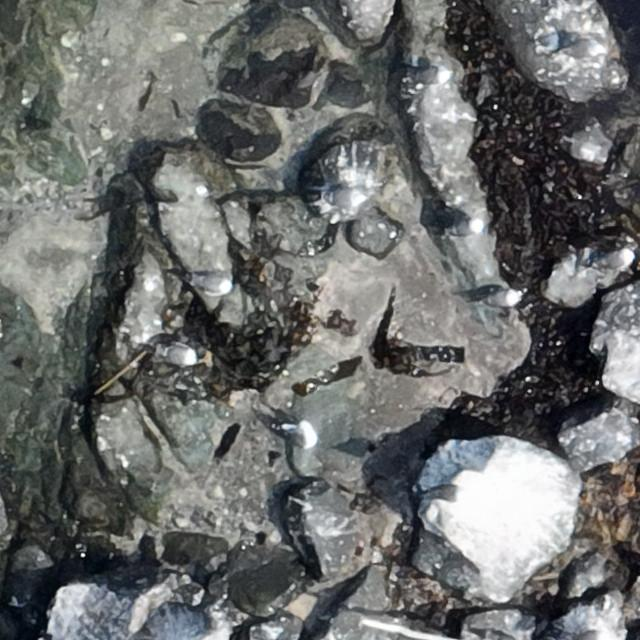umineko: (274, 415, 324, 451), (160, 341, 202, 372), (560, 41, 612, 59), (425, 483, 470, 503), (412, 65, 452, 86), (594, 250, 632, 270), (197, 275, 232, 293), (485, 290, 520, 307), (450, 220, 484, 237)
